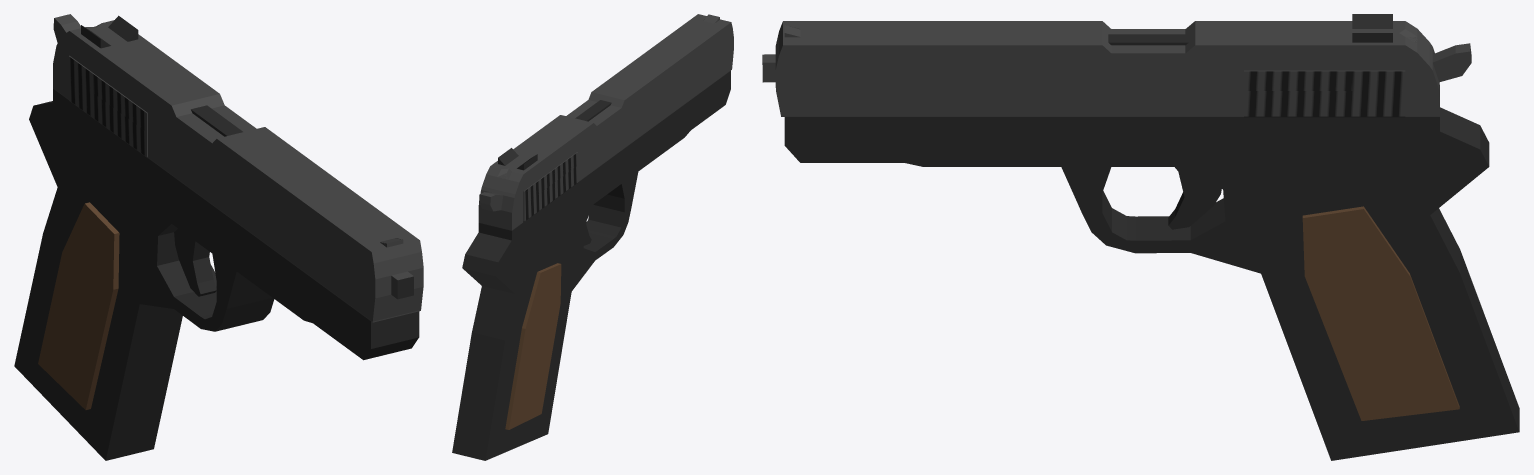
File: colt1911.fbx
The picture shows the model from 3 angles, left to right: view 1: azimuth 30°, elevation 25°; view 2: azimuth 150°, elevation 25°; view 3: azimuth 270°, elevation 25°; orthographic projection. The views are drawn at different scales.
Parts seen in each view (by area): view 1: Cube; view 2: Cube; view 3: Cube.
Part boxes in pixels (box(x1,y1,x2,y2)): Cube: box(14, 14, 423, 460); Cube: box(452, 14, 733, 460); Cube: box(762, 14, 1519, 460).
Bounding box in the file's own units: 166 × 1116 × 1800.
Materials: 1 (1 with a texture image).
